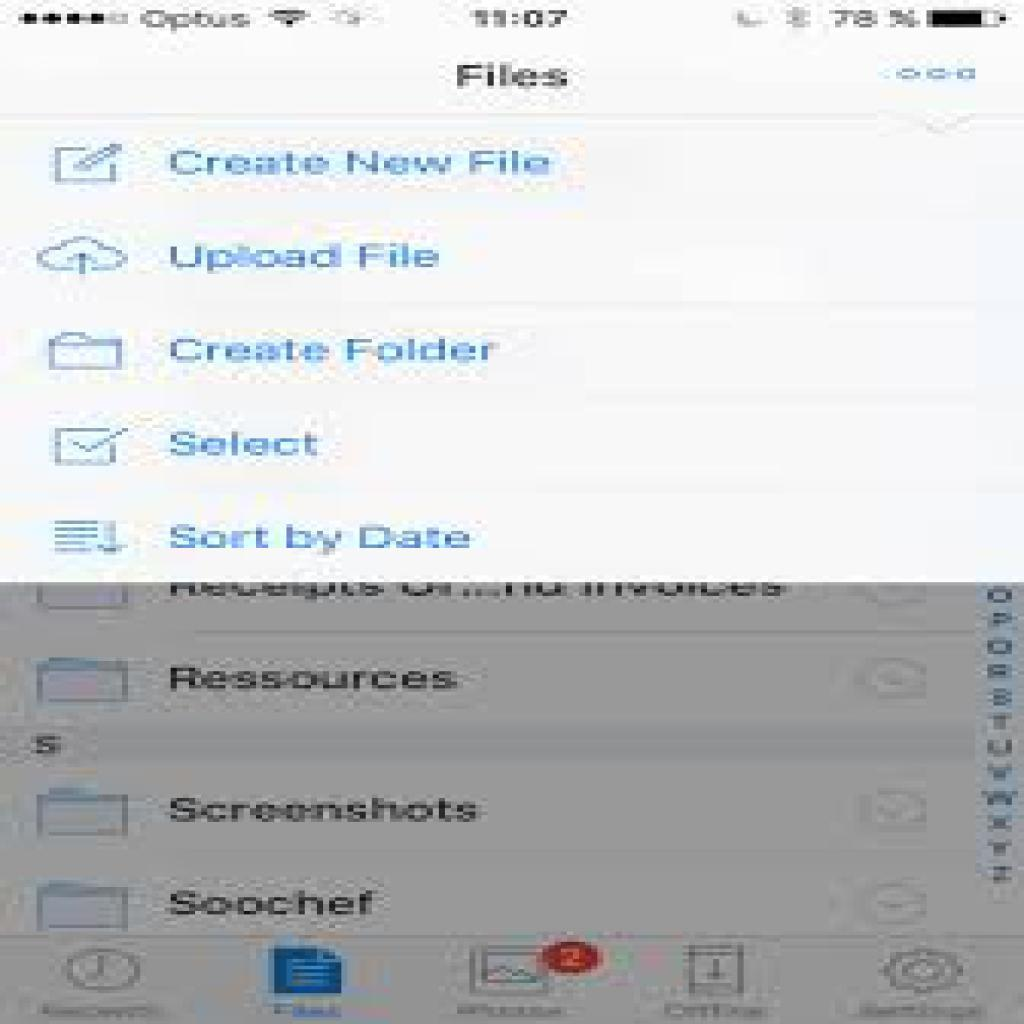icon: (462, 938, 602, 1002), (29, 647, 133, 711), (32, 781, 135, 841), (878, 942, 971, 1003), (37, 877, 134, 935), (31, 232, 140, 283), (39, 324, 130, 383), (268, 938, 357, 996), (39, 423, 144, 472), (60, 941, 150, 998), (681, 941, 762, 1004), (46, 511, 135, 565), (40, 142, 137, 185)
